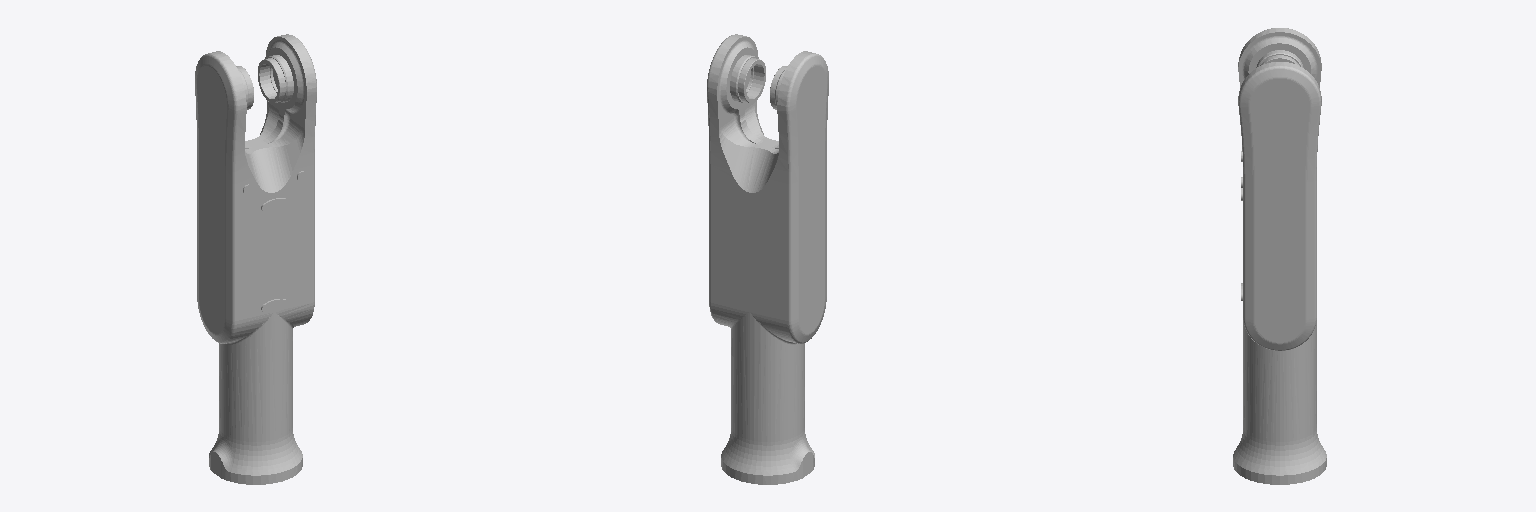
3 renders of one model, left to right at view 1: azimuth 30°, elevation 25°; view 2: azimuth 150°, elevation 25°; view 3: azimuth 270°, elevation 25°, orthographic.
Parts seen in each view (by area): view 1: transform7; view 2: transform7; view 3: transform7.
Part boxes in pixels (x1,y1,x2,y2): transform7: (195,34,316,484); transform7: (707,34,828,484); transform7: (1233,28,1326,484).
Size of the model in its own units: 14.37 by 65.45 by 13.25.